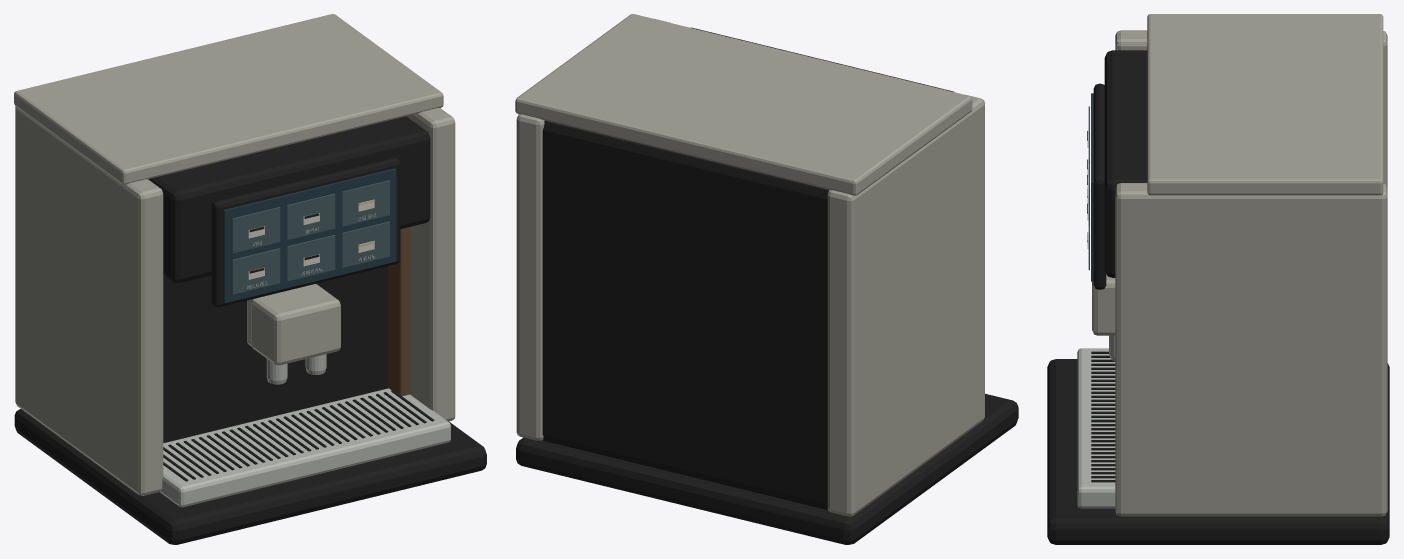
File: coffee.glb
The picture shows the model from 3 angles, left to right: view 1: azimuth 30°, elevation 25°; view 2: azimuth 150°, elevation 25°; view 3: azimuth 270°, elevation 25°; orthographic projection. The views are drawn at different scales.
Parts seen in each view (by area): view 1: 실내 조명 베이크용 coffee; view 2: 실내 조명 베이크용 coffee; view 3: 실내 조명 베이크용 coffee.
Part boxes in pixels (x1,y1,x2,y2): 실내 조명 베이크용 coffee: (14, 14, 486, 544); 실내 조명 베이크용 coffee: (515, 14, 1018, 544); 실내 조명 베이크용 coffee: (1047, 14, 1389, 544).
Size of the model in its own units: 0.627 by 0.642 by 0.541.
